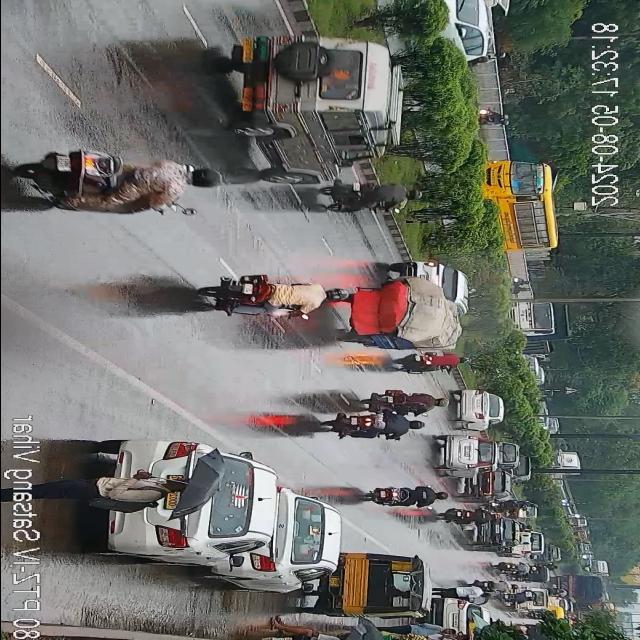2-wheelers: (31, 154, 215, 217), (197, 274, 343, 320), (324, 172, 412, 222), (327, 402, 421, 443), (365, 480, 447, 512), (372, 389, 447, 413), (390, 354, 474, 373), (444, 500, 488, 530), (494, 560, 534, 576), (491, 564, 537, 576), (476, 581, 518, 592), (492, 500, 532, 510), (498, 594, 536, 602)
auto: (330, 546, 433, 616), (350, 286, 448, 350), (473, 470, 515, 494), (512, 529, 544, 559), (516, 571, 552, 585), (546, 604, 564, 620)
bus: (480, 160, 558, 258)
car: (87, 438, 270, 579), (232, 36, 392, 180), (240, 491, 338, 590), (439, 0, 492, 61), (436, 428, 480, 478), (455, 386, 501, 432), (480, 508, 515, 554), (496, 438, 518, 468)
pedestrian: (46, 464, 190, 508), (274, 619, 368, 640), (382, 619, 457, 640), (432, 584, 490, 602)
truck: (510, 301, 568, 362), (550, 575, 606, 601)
